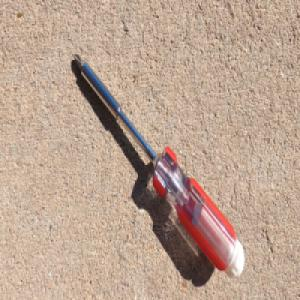Screwdriver: (71, 53, 246, 282)
